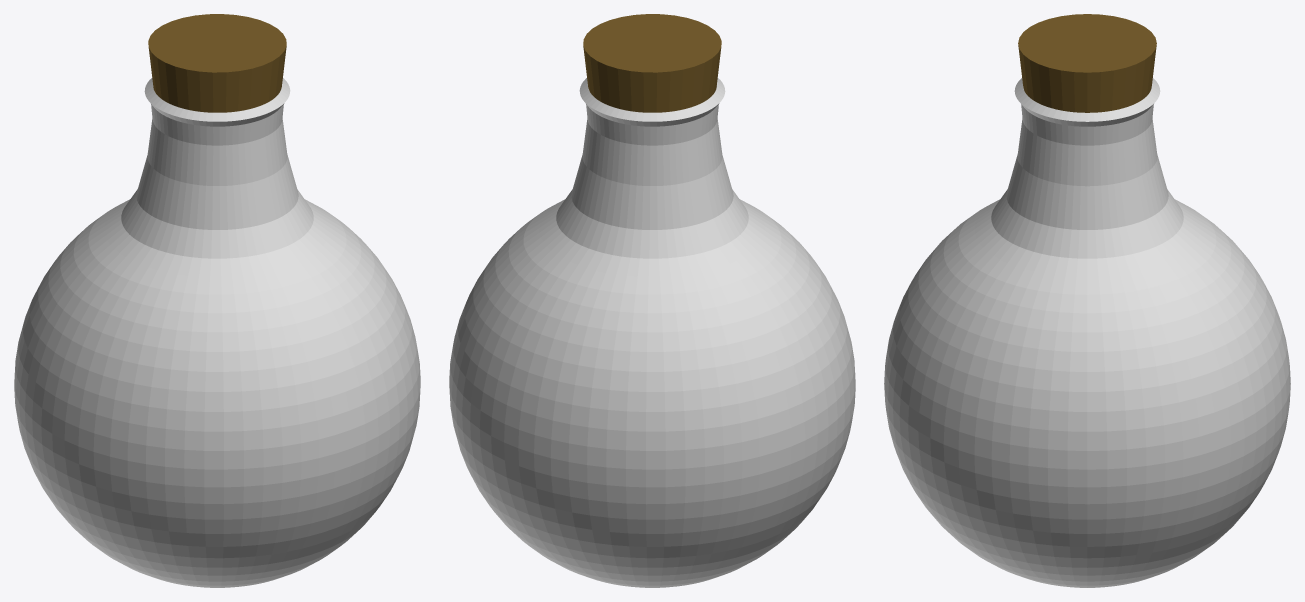
File: potion2.fbx
The picture shows the model from 3 angles, left to right: view 1: azimuth 30°, elevation 25°; view 2: azimuth 150°, elevation 25°; view 3: azimuth 270°, elevation 25°; orthographic projection.
Visible parts, largest first — view 1: Glass, Cork; view 2: Glass, Cork; view 3: Glass, Cork.
Boxes of the visible parts, x1,y1,x2,y2 form: Glass: (14,78,420,587); Cork: (148,14,286,112); Glass: (449,78,855,587); Cork: (583,14,721,112); Glass: (884,78,1290,587); Cork: (1018,14,1156,112).
Size of the model in its own units: 197 by 282 by 197.
